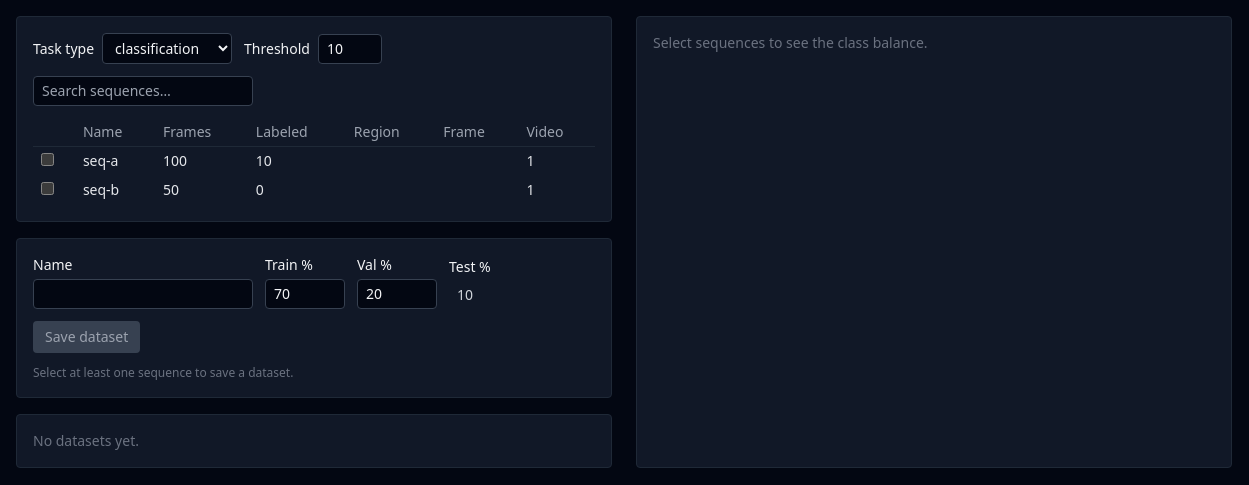
Test case: DatasetsPage › disables saving until the dataset has a name
Check: the button "Save dataset" is disabled, box [33, 321, 140, 353]
Click the checkbox named "select seq-a" at (48, 160), box [41, 153, 54, 166]
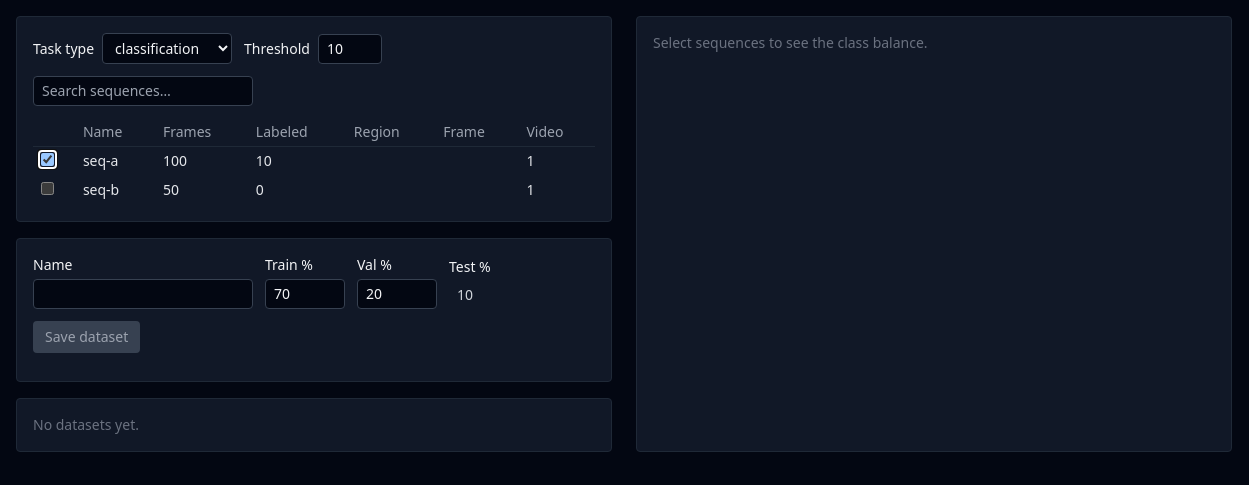
Type "my-dataset" into the field labelled "Name" at (143, 294), box [33, 279, 253, 309]
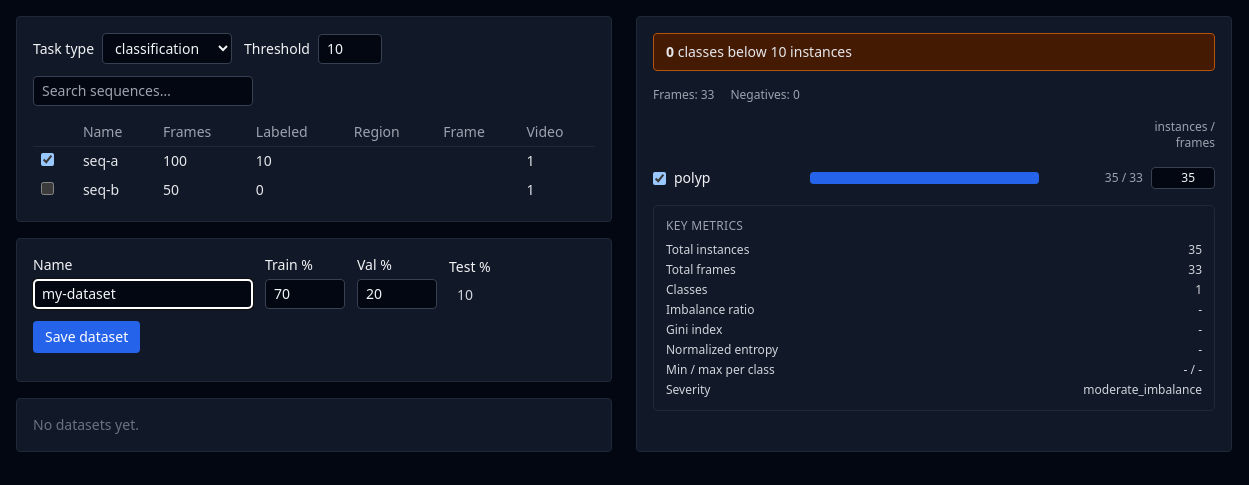
Check: the button "Save dataset" is enabled, box [33, 321, 140, 353]
